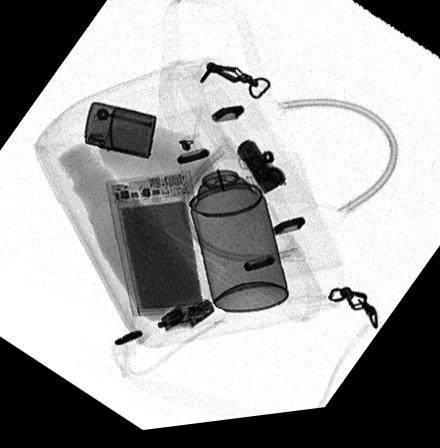Lighter: (84, 103, 158, 161)
Powerbank: (103, 174, 213, 318)
Sprayer: (188, 162, 290, 317)
